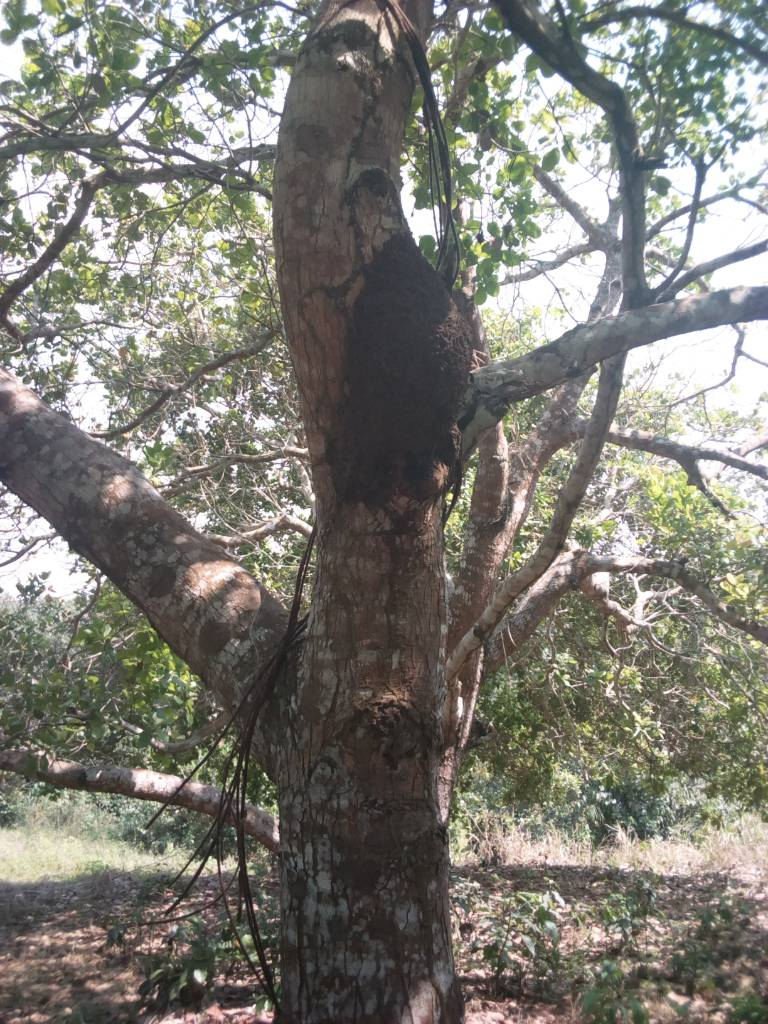Termites: (332, 236, 472, 508)
